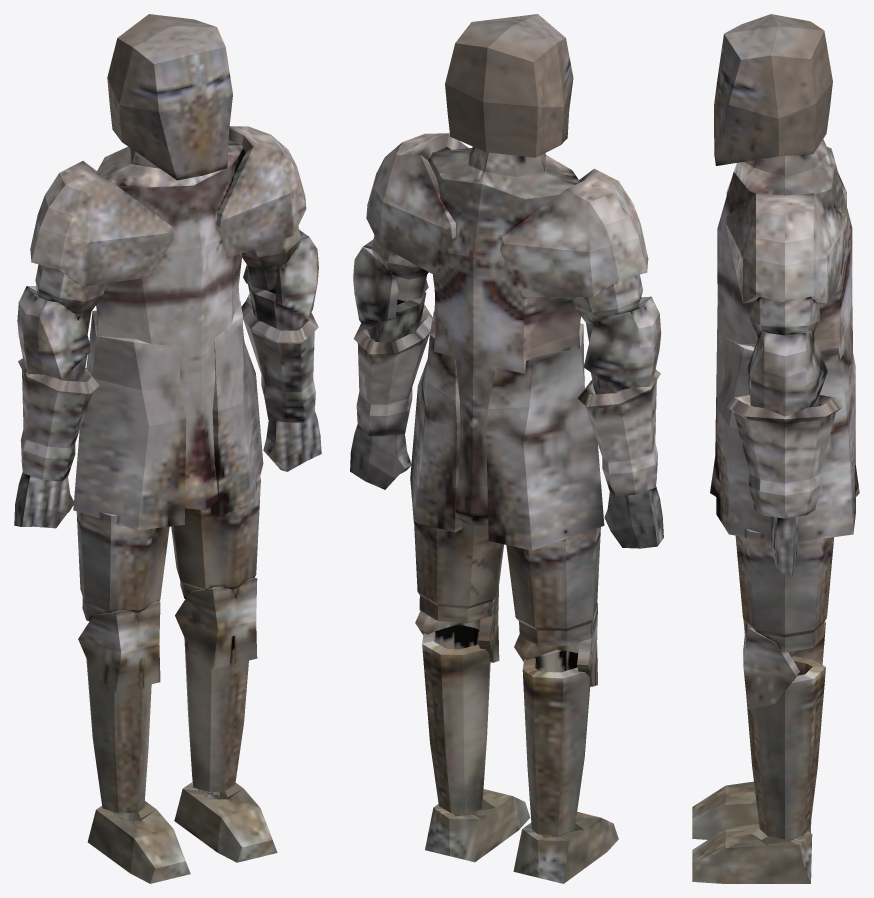
File: knight.fbx
3 views of the same model, side by side, from view 1: azimuth 30°, elevation 25°; view 2: azimuth 150°, elevation 25°; view 3: azimuth 270°, elevation 25° (orthographic). The views are drawn at different scales.
Visible parts, largest first — view 1: Object_2; view 2: Object_2; view 3: Object_2.
Part boxes in pixels (bbox=[...]): Object_2: bbox=[14, 14, 321, 883]; Object_2: bbox=[350, 14, 663, 883]; Object_2: bbox=[692, 14, 859, 883].
Bounding box in the file's own units: 152 × 391 × 72.
